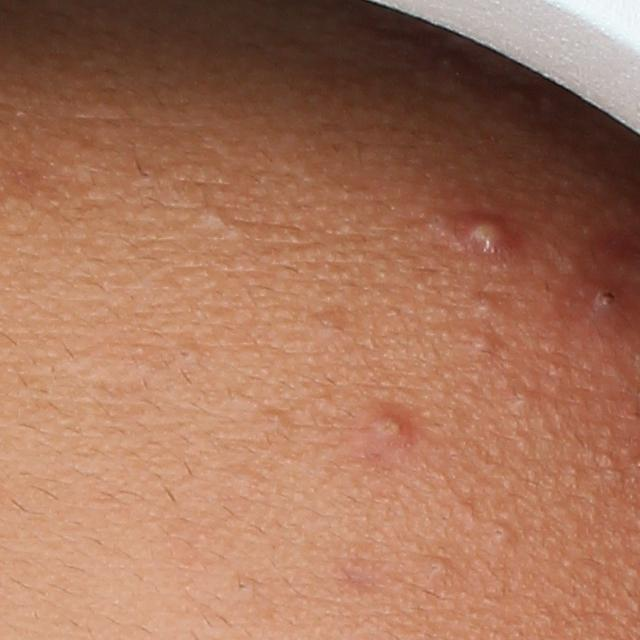comedo: (469, 288, 502, 320), (200, 205, 233, 232), (485, 521, 515, 549), (468, 331, 500, 357), (170, 341, 204, 364), (426, 553, 453, 580), (228, 573, 254, 600), (511, 390, 534, 413)
papule: (585, 277, 627, 320)
pustule: (453, 209, 518, 263), (363, 411, 407, 447)
